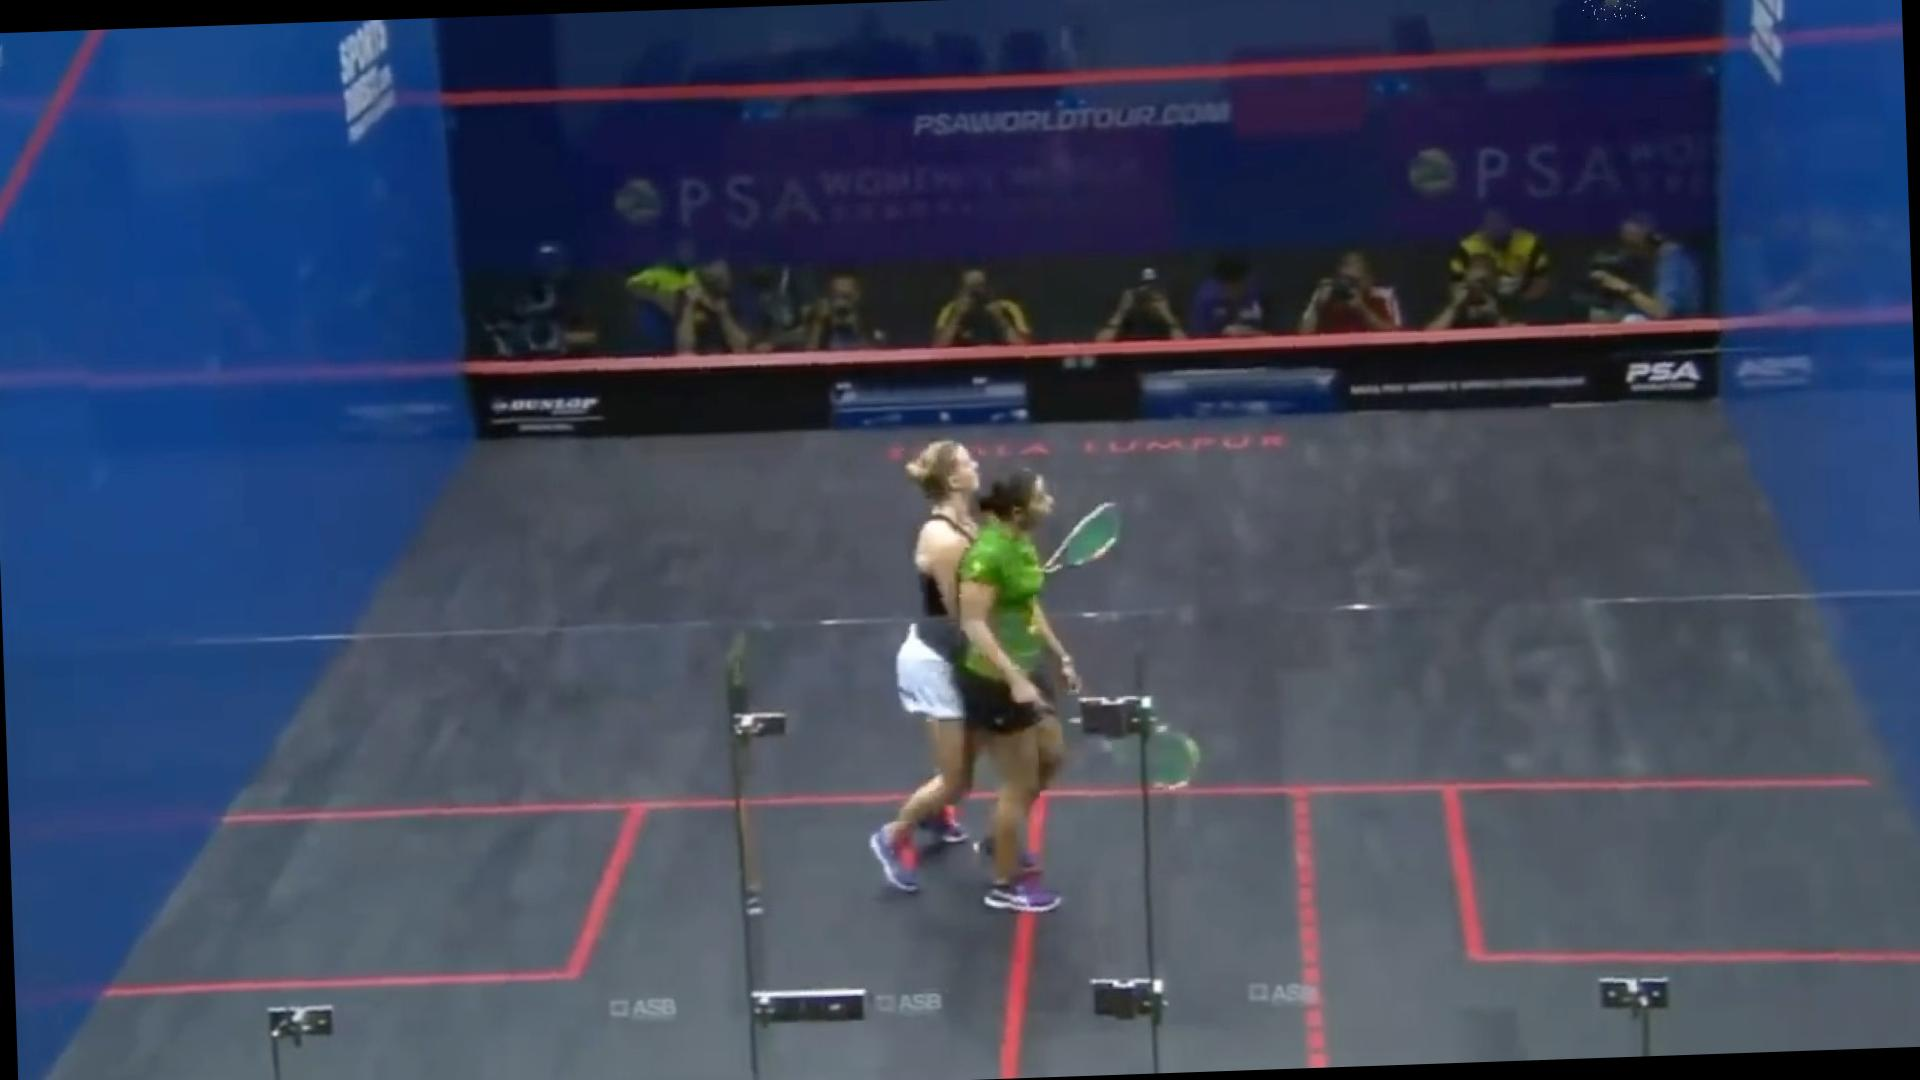Squash-Ball: (1578, 0, 1646, 21)
